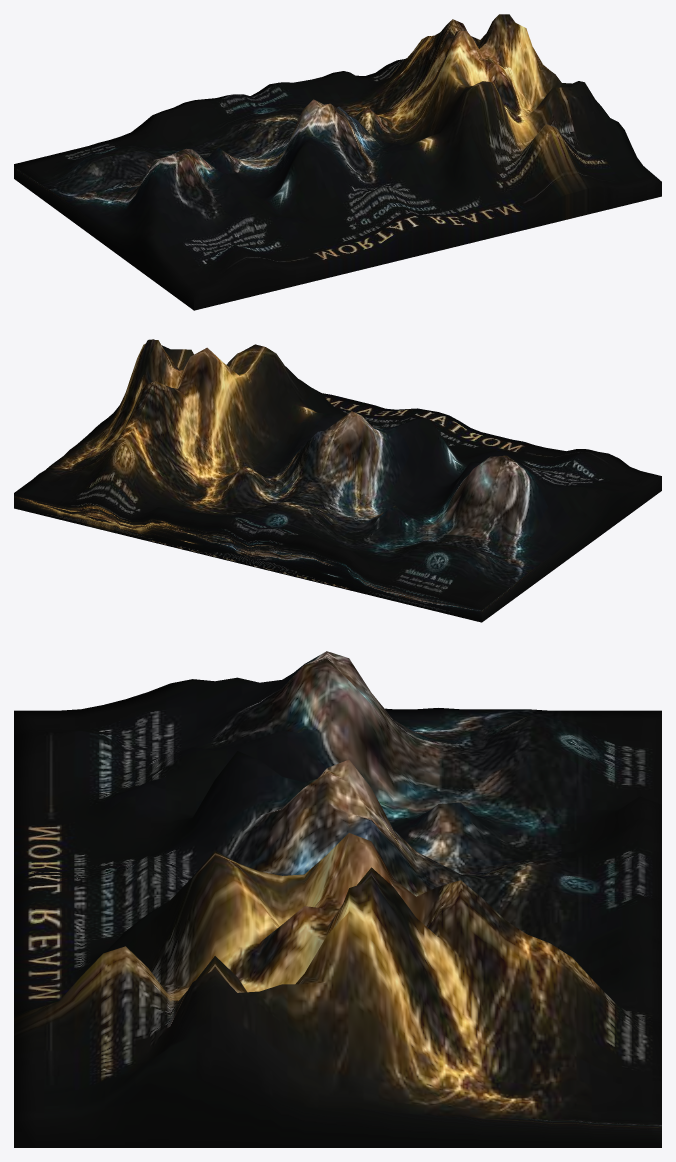
Rendered from Mortal_Realm_Group.glb.
The picture shows the model from 3 angles, top to bottom: view 1: azimuth 30°, elevation 25°; view 2: azimuth 150°, elevation 25°; view 3: azimuth 270°, elevation 25°; orthographic projection. The views are drawn at different scales.
Parts seen in each view (by area): view 1: Mortal_Realm_Group; view 2: Mortal_Realm_Group; view 3: Mortal_Realm_Group.
Boxes of the visible parts, x1,y1,x2,y2 form: Mortal_Realm_Group: (14, 14, 661, 310); Mortal_Realm_Group: (14, 339, 661, 622); Mortal_Realm_Group: (14, 651, 661, 1147).
Size of the model in its own units: 2 by 0.51 by 1.33.
Materials: 1 (1 with a texture image).
